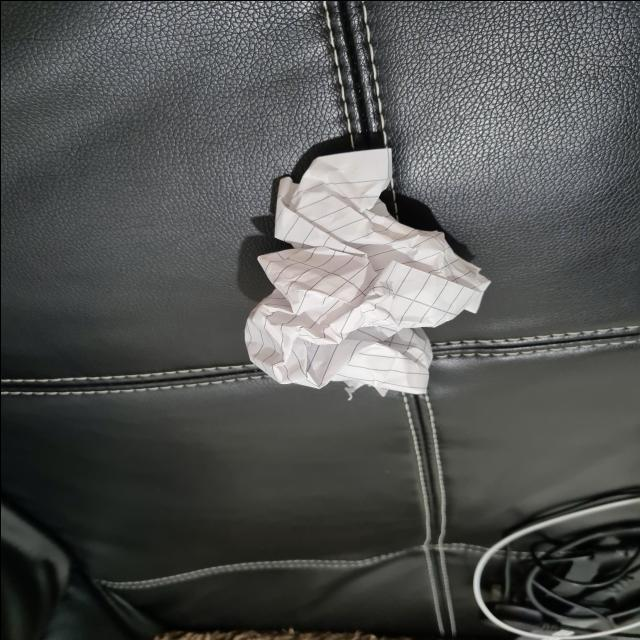Paper: (239, 126, 509, 416)
